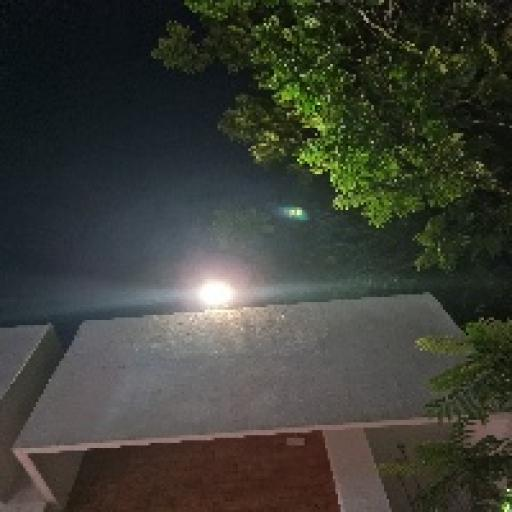Working: (195, 276, 237, 312)
